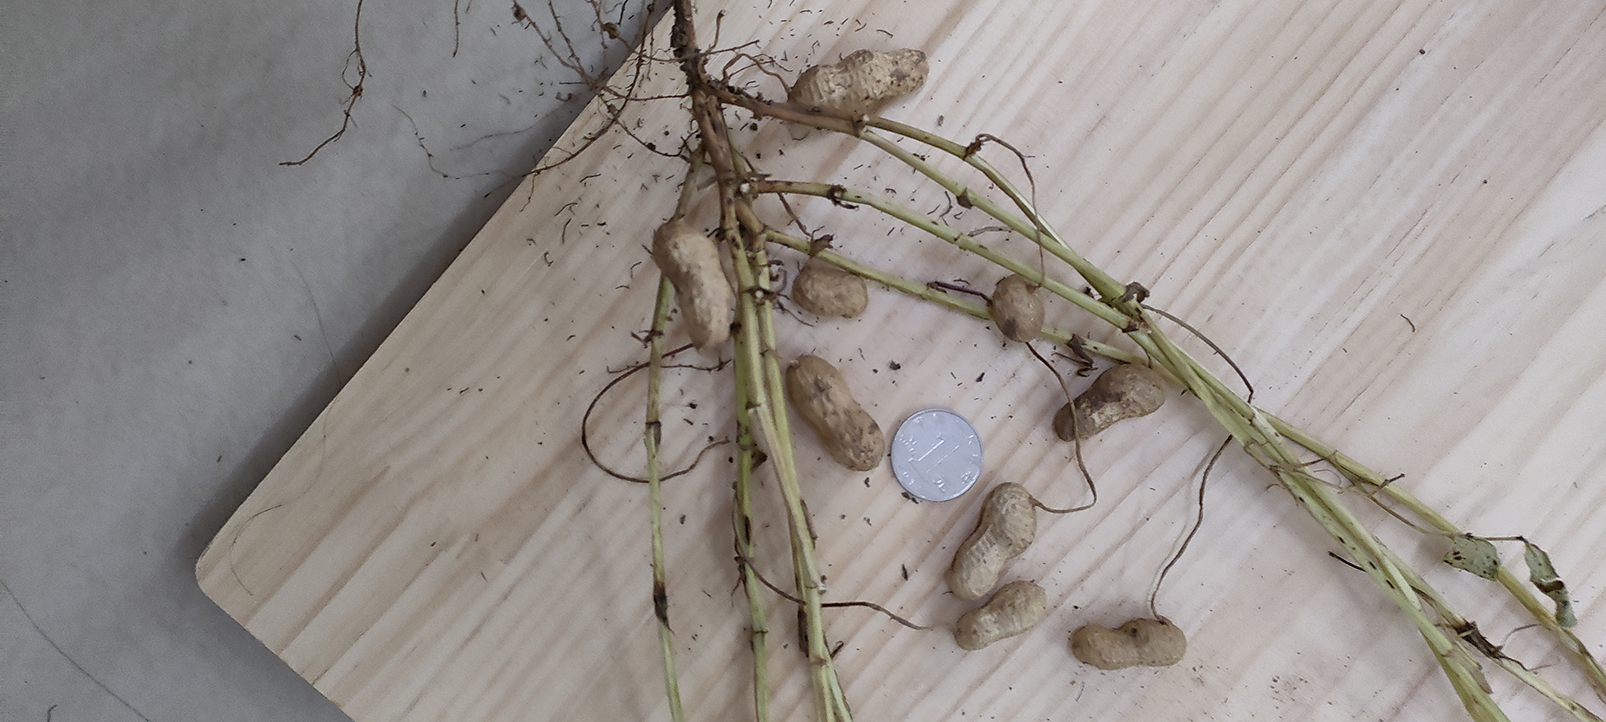h: (786, 353, 885, 470), (653, 220, 734, 354), (949, 484, 1037, 603), (789, 48, 930, 112), (953, 582, 1047, 650), (1069, 615, 1188, 670), (790, 262, 869, 318), (989, 277, 1045, 342)
l: (1053, 363, 1168, 442)
